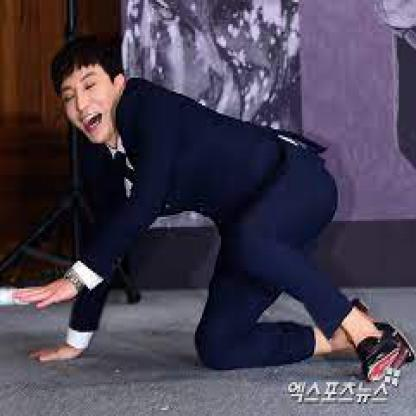Fall_Down: (11, 34, 414, 383)
